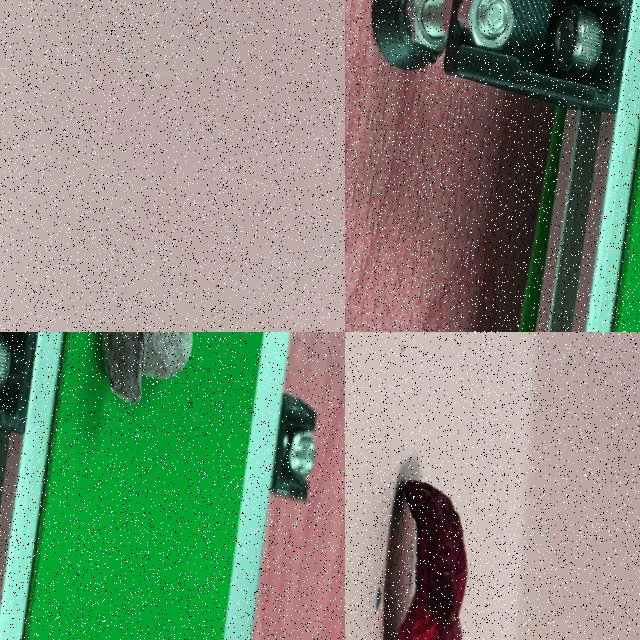Agglomerated_cocoabeans: (33, 332, 224, 474)
Flat_cocoabeans: (345, 392, 527, 639)
